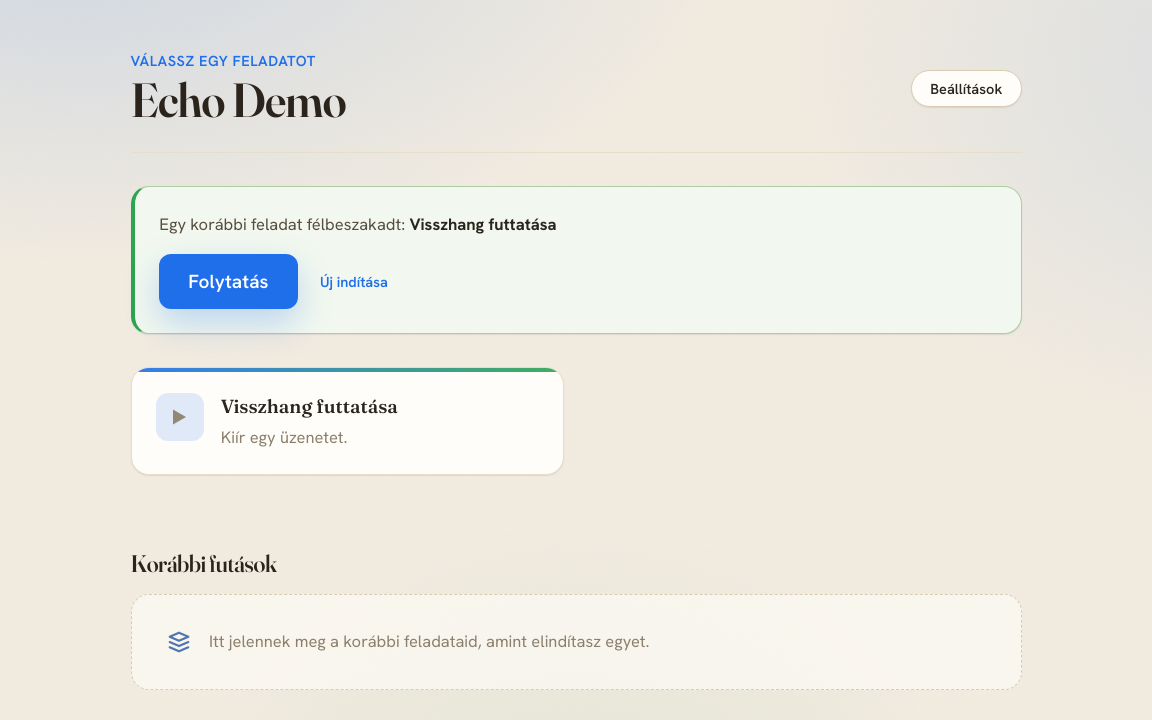
Test case: home resume offer (FR-7.2) › a crashed in-progress run is offered for resume; Folytatás resumes it into the run view
What coordinates should you click on to do the following:
click the button "Folytatás"
I would click on:
 (228, 281)
Its box is left=159, top=254, right=298, bottom=309.
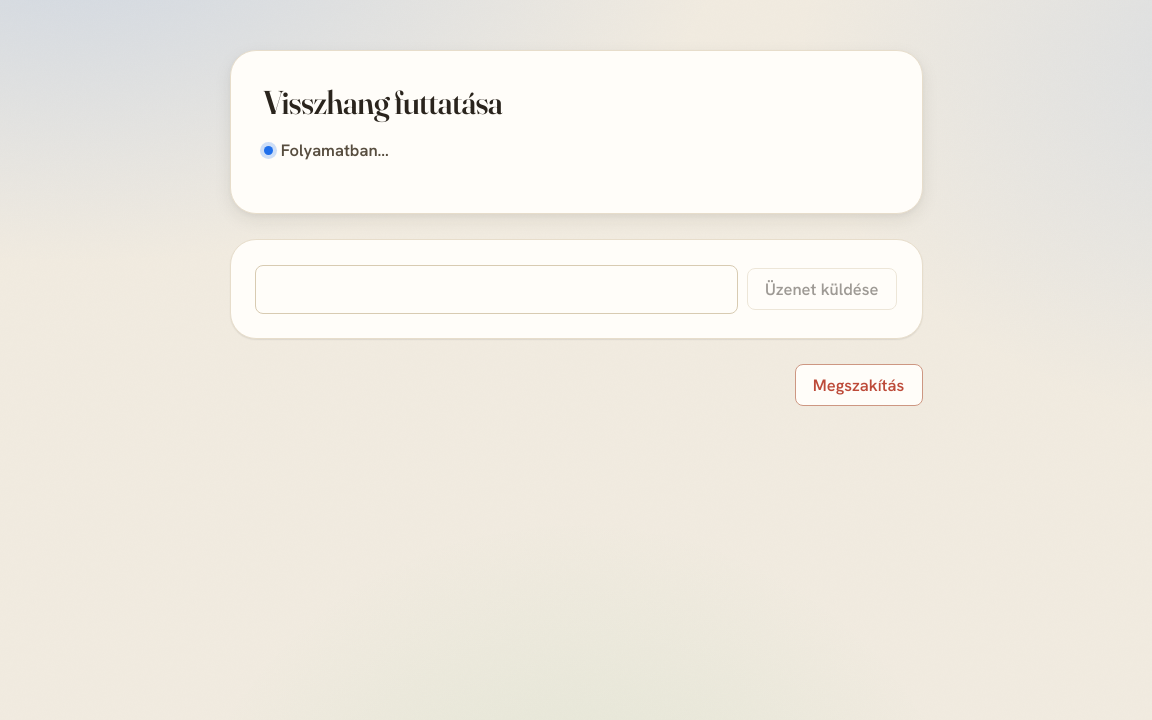
Check: the text "Folyamatban…" is shown, box left=281, top=139, right=389, bottom=161
